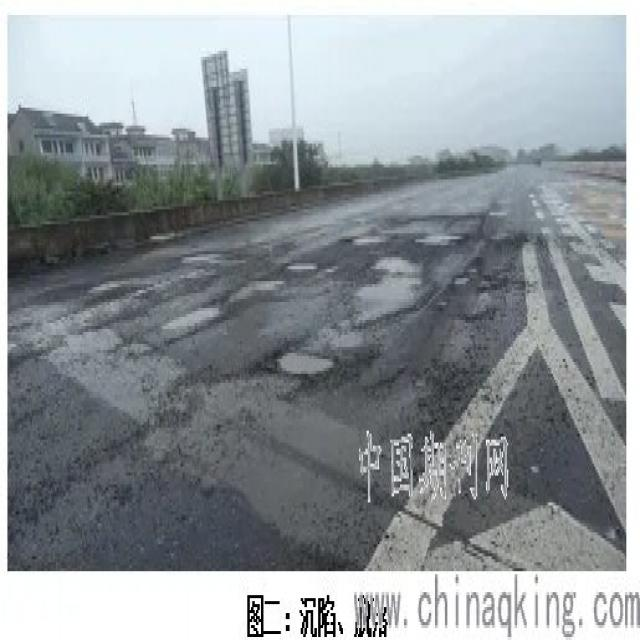Pothole: (348, 245, 435, 341), (163, 299, 222, 350), (268, 341, 333, 383), (281, 251, 318, 278)
